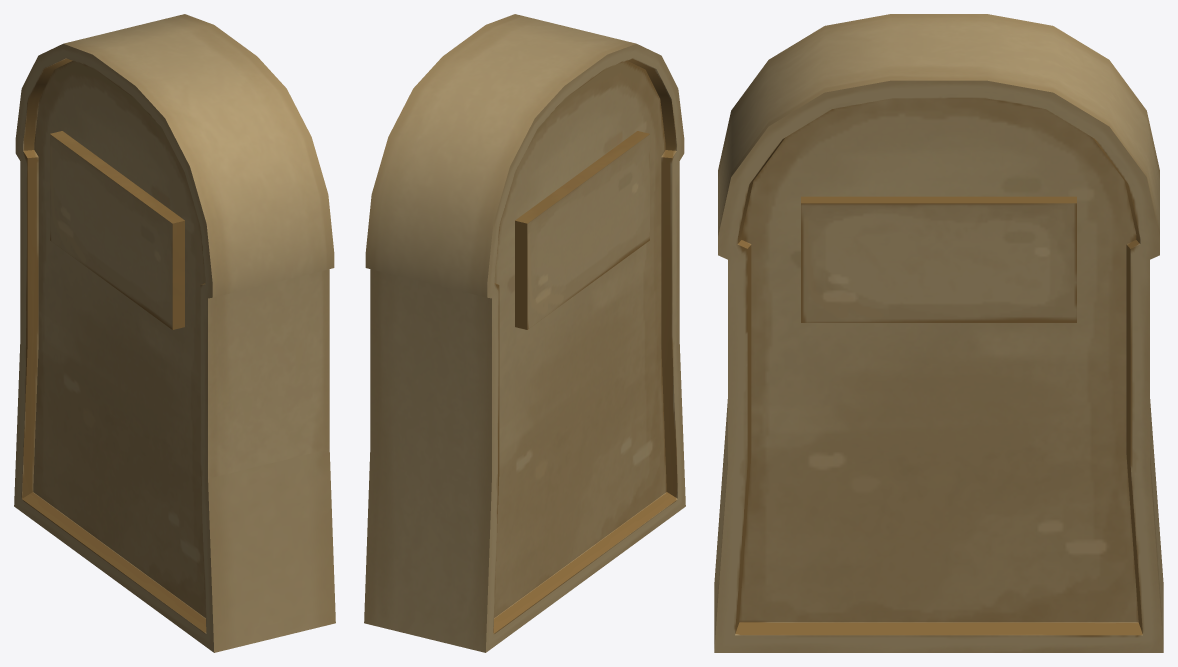
The model's file is gravestone1.fbx.
The picture shows the model from 3 angles, left to right: view 1: azimuth 30°, elevation 25°; view 2: azimuth 150°, elevation 25°; view 3: azimuth 270°, elevation 25°; orthographic projection. The views are drawn at different scales.
Parts seen in each view (by area): view 1: gravestone; view 2: gravestone; view 3: gravestone.
Part boxes in pixels (x1,y1,x2,y2): gravestone: (14,14,335,652); gravestone: (364,14,685,652); gravestone: (714,14,1163,652).
Bounding box in the file's own units: 31.46 × 120 × 85.44.
